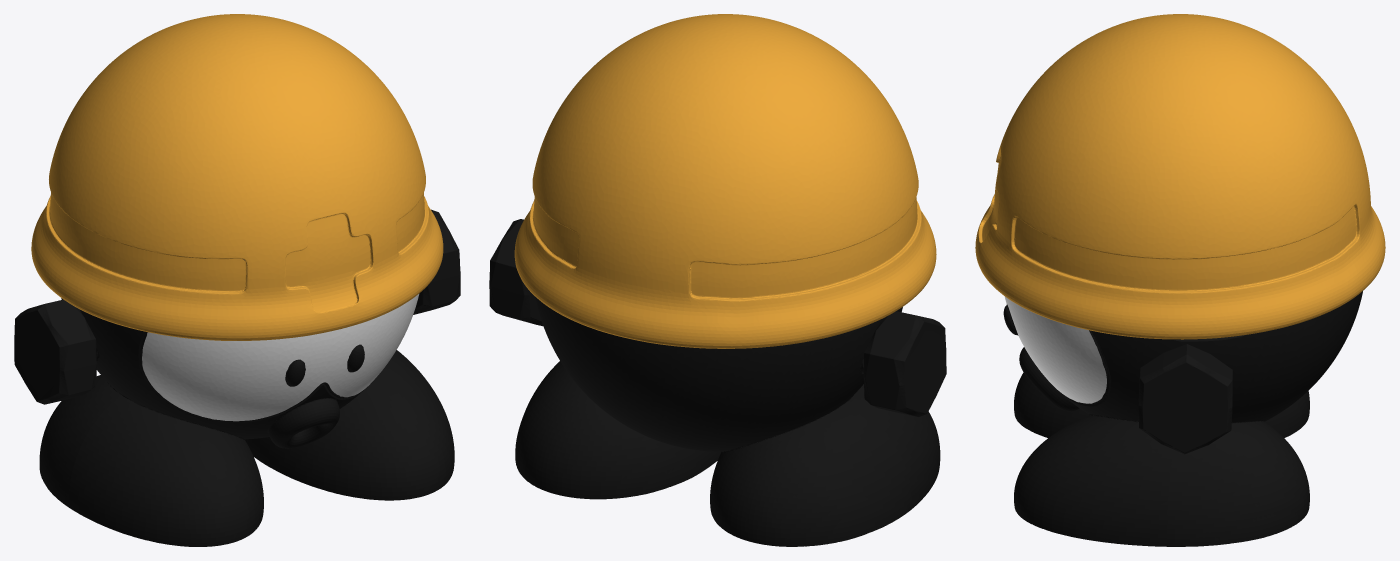
Rendered from enemy.fbx.
The picture shows the model from 3 angles, left to right: view 1: azimuth 30°, elevation 25°; view 2: azimuth 150°, elevation 25°; view 3: azimuth 270°, elevation 25°; orthographic projection. The views are drawn at different scales.
Parts seen in each view (by area): view 1: Casco, Metall+DX, Eyes; view 2: Casco, Metall+DX; view 3: Casco, Metall+DX, Eyes.
Part boxes in pixels (x1,y1,x2,y2): Casco: [31, 14, 443, 340]; Metall+DX: [14, 209, 460, 546]; Eyes: [142, 294, 419, 421]; Casco: [514, 14, 936, 348]; Metall+DX: [489, 219, 946, 546]; Casco: [975, 14, 1385, 339]; Metall+DX: [1003, 291, 1362, 546]; Eyes: [1004, 296, 1106, 403].
Size of the model in its own units: 159 by 160 by 139.
